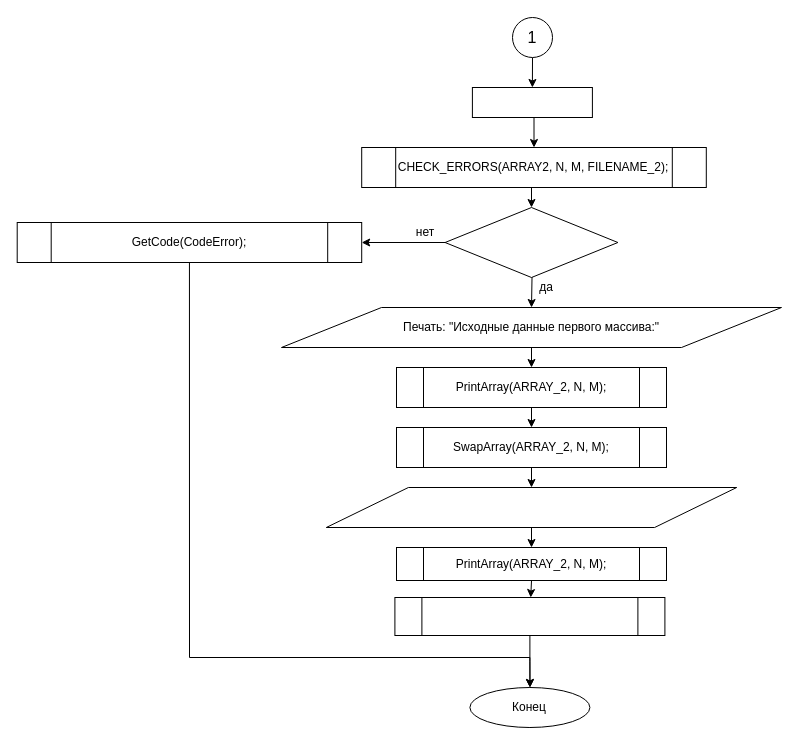
Some shapes in this 800 by 745 pixel diagram are drawn without their labels. Each missing label, with the centre of its shape:
CodeError = 0: [531,102]
CodeError == 0: [531,242]
MaxArray(ARRAY_2, N, M);: [529,616]
Печать:"Массив после перестановки:": [531,507]
